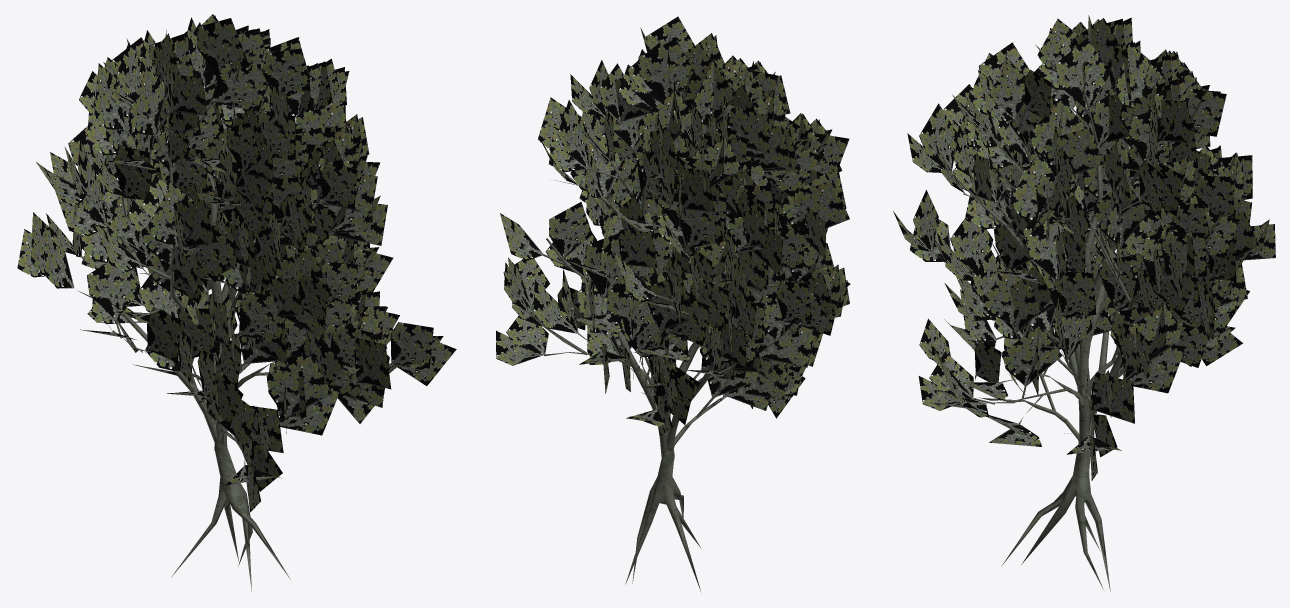
File: temperate-beech-a-close.glb
The picture shows the model from 3 angles, left to right: view 1: azimuth 30°, elevation 25°; view 2: azimuth 150°, elevation 25°; view 3: azimuth 270°, elevation 25°; orthographic projection. The views are drawn at different scales.
Visible parts, largest first — view 1: american_beech_a_LOD0; view 2: american_beech_a_LOD0; view 3: american_beech_a_LOD0.
Boxes of the visible parts, box(x1,y1,x2,y2) form: american_beech_a_LOD0: box(17, 14, 456, 591); american_beech_a_LOD0: box(496, 16, 850, 591); american_beech_a_LOD0: box(893, 15, 1275, 591).
Size of the model in its own units: 13.61 by 21.32 by 13.94.
1 material, 1 textured.
